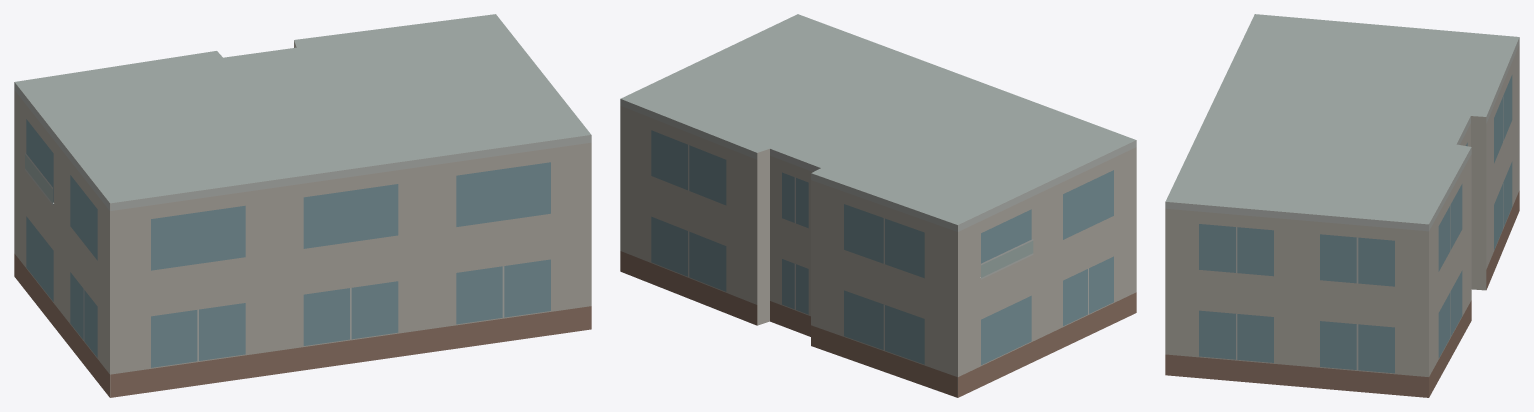
Rendered from survey-upis-33021179.glb.
3 renders of one model, left to right at view 1: azimuth 30°, elevation 25°; view 2: azimuth 150°, elevation 25°; view 3: azimuth 270°, elevation 25°, orthographic. The views are drawn at different scales.
Parts seen in each view (by area): view 1: survey-upis-33021179.tmp; view 2: survey-upis-33021179.tmp; view 3: survey-upis-33021179.tmp.
Part boxes in pixels (<box>): survey-upis-33021179.tmp: <box>14,14,591,397</box>; survey-upis-33021179.tmp: <box>620,14,1136,397</box>; survey-upis-33021179.tmp: <box>1165,14,1519,397</box>.
Bounding box in the file's own units: 15.88 × 6.1 × 11.3.
